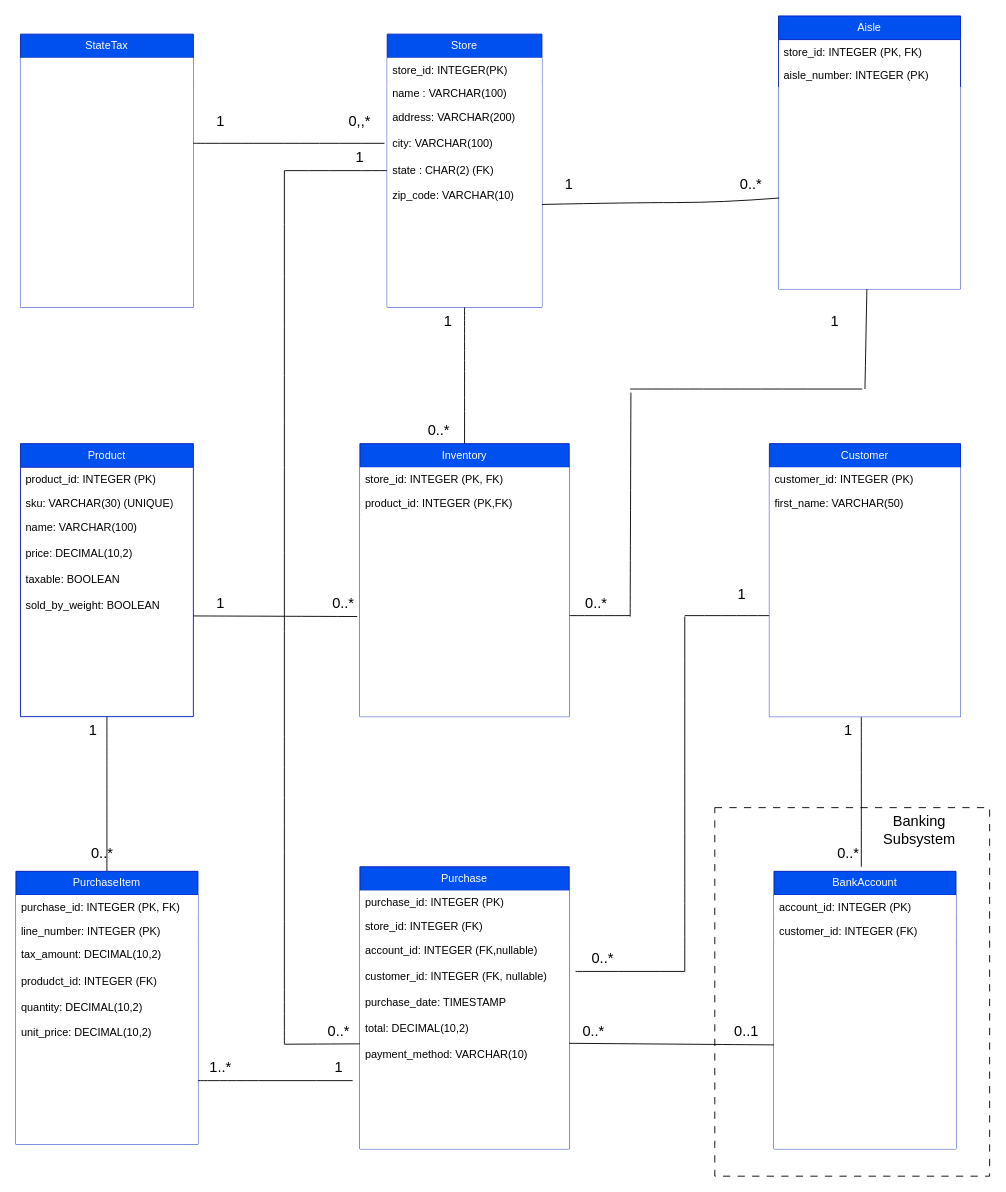
Some shapes in this 1006 by 1192 pixel diagram are drawn without their labels. Here are the shapes that lost their labels. From the top down, the centre of each, then its label:
At pixel 106 69: "state: CHAR(2) (PK)".
At pixel 106 194: "tax_rate: DECIMAL(5,4)".
At pixel 869 187: "category: VARCHAR(100)".
At pixel 464 615: "aisle_number: INTEGER (FK) quantity: DECIMAL (10,2)".
At pixel 864 615: "last_name: VARCHAR(50) email: VARCHAR(100) phone: VARCHAR(20)".
At pixel 865 1045: "balance: DECIMAL(12,2)".
